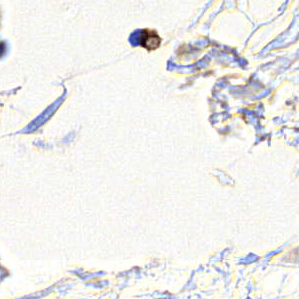Lymphocyte: (137, 26, 164, 53)
